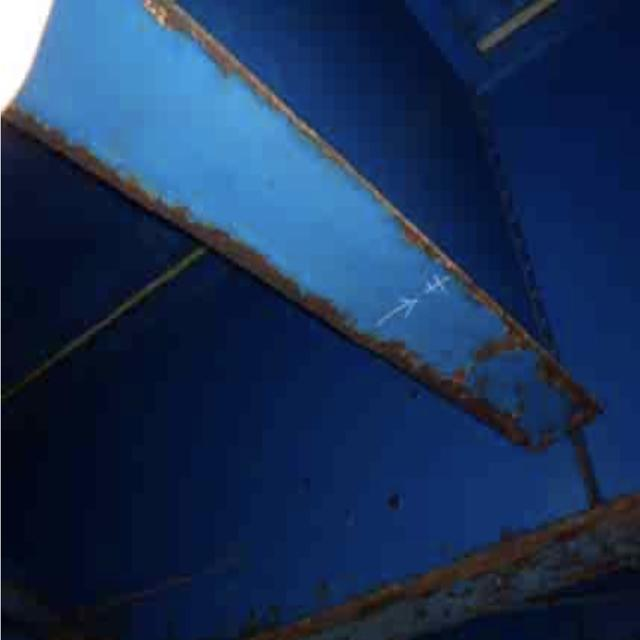corrosion: (13, 114, 597, 464)
